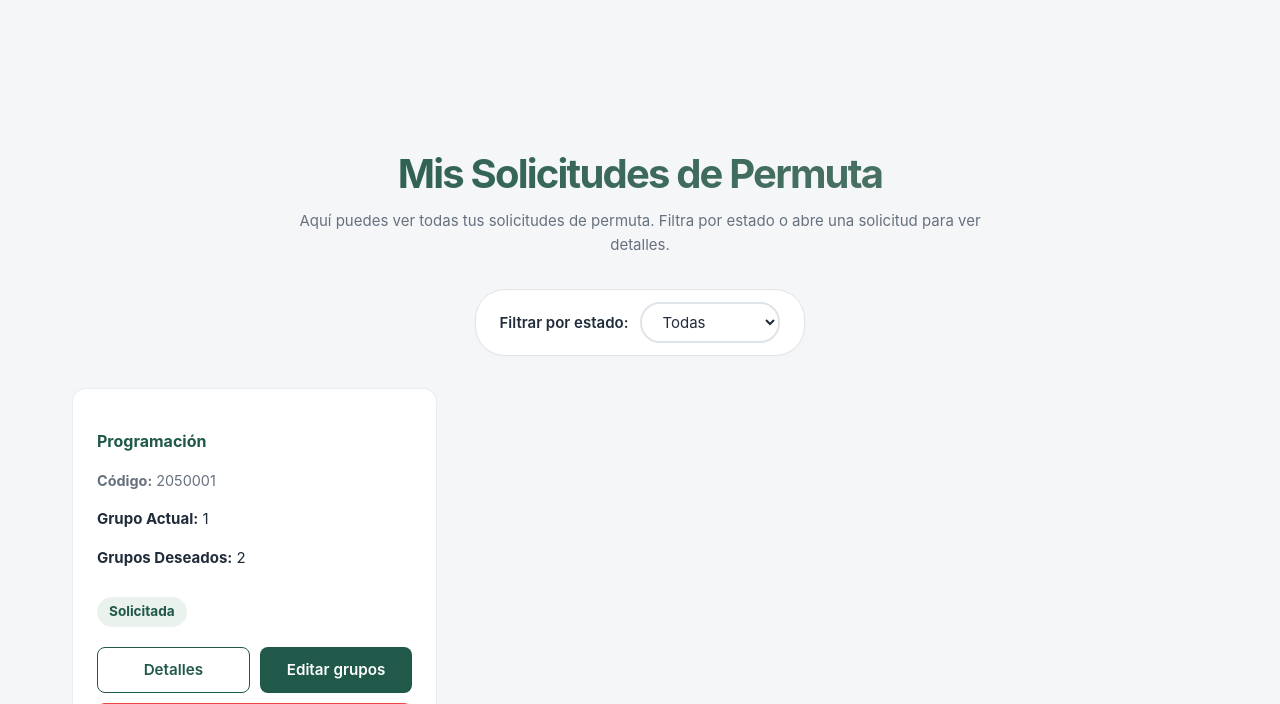
Scenario: edición de grupos deseados › muestra un error de carga y no permite guardar sin opciones válidas
Click the button "Editar grupos" at {"x": 336, "y": 670}, box [260, 647, 412, 693]
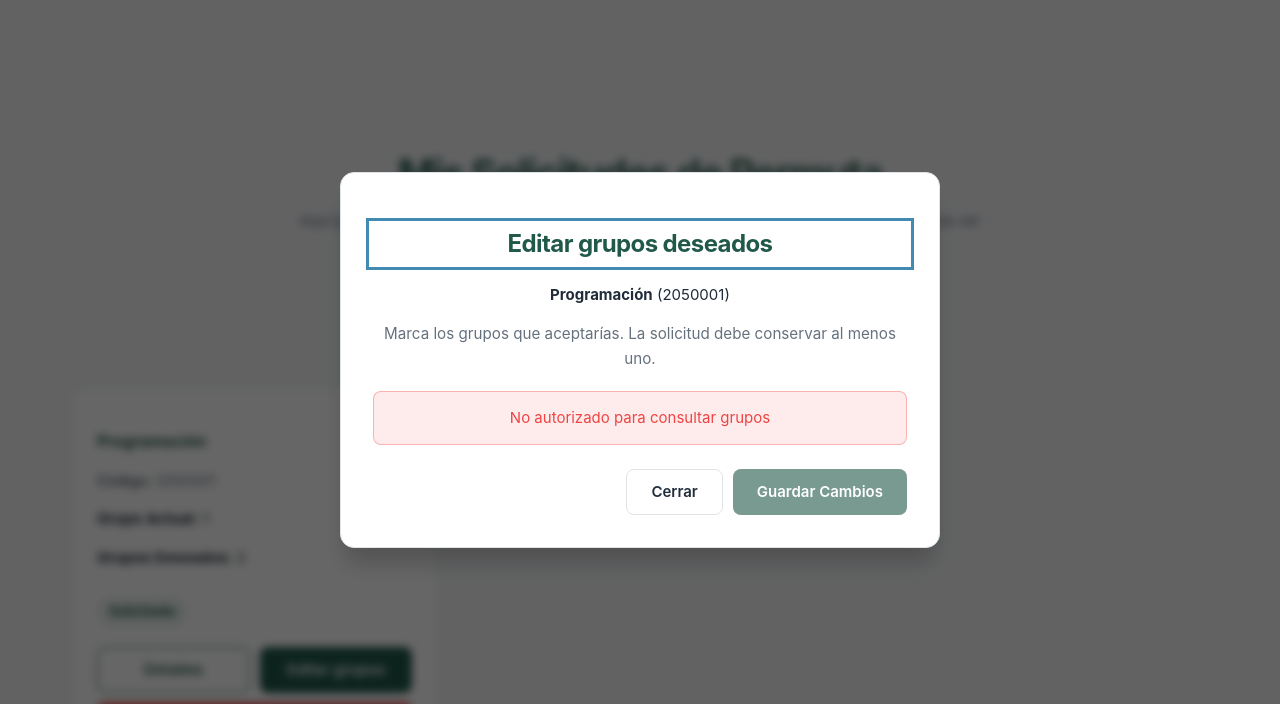
Expected: the message reads "No autorizado para consultar grupos", [510, 408, 770, 427]
Expected: the button "Guardar Cambios" is disabled, [733, 469, 907, 515]
